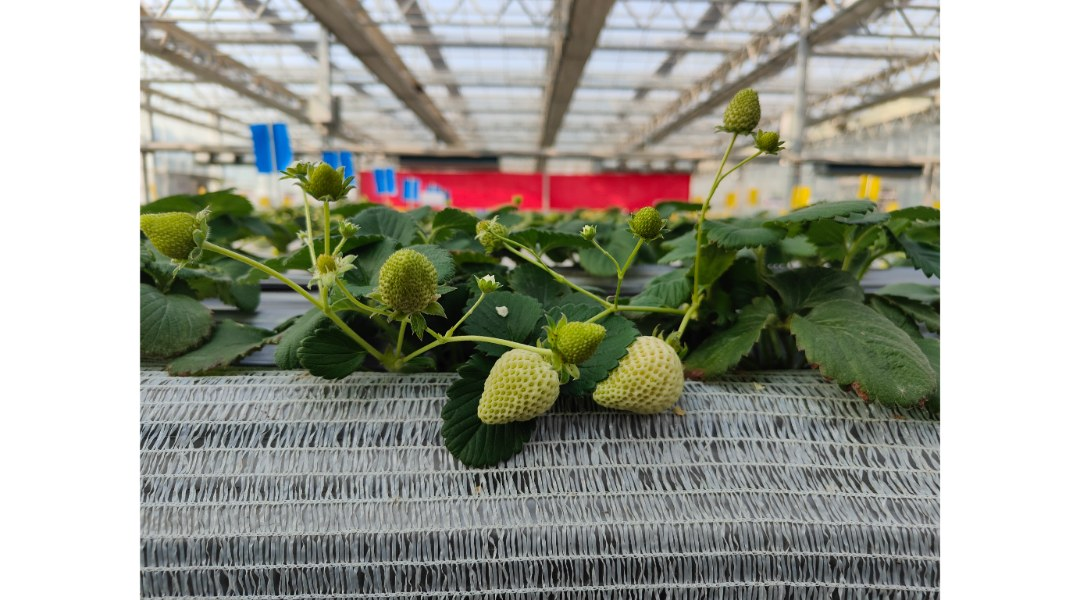berry: (600, 333, 689, 425), (477, 342, 559, 432), (130, 195, 219, 263), (376, 242, 446, 327), (538, 314, 609, 367), (716, 78, 754, 144), (298, 163, 352, 206), (622, 195, 665, 241), (750, 127, 789, 172), (473, 211, 506, 252), (302, 251, 349, 279), (339, 217, 371, 240), (474, 272, 501, 296), (578, 217, 604, 241)
strain: (207, 234, 292, 290), (696, 168, 720, 281), (543, 269, 607, 302), (332, 314, 370, 367), (623, 297, 686, 321), (620, 244, 642, 284)
